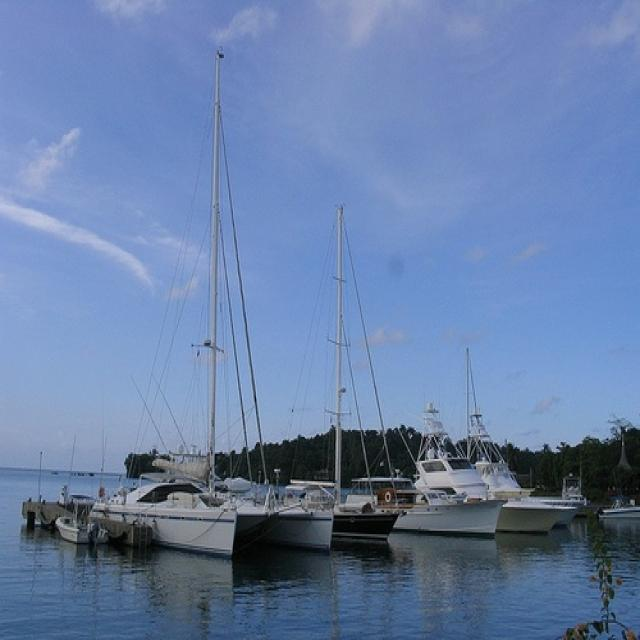boat: (86, 48, 330, 556), (326, 203, 397, 545), (417, 401, 562, 538), (350, 476, 506, 536), (54, 504, 110, 552)
